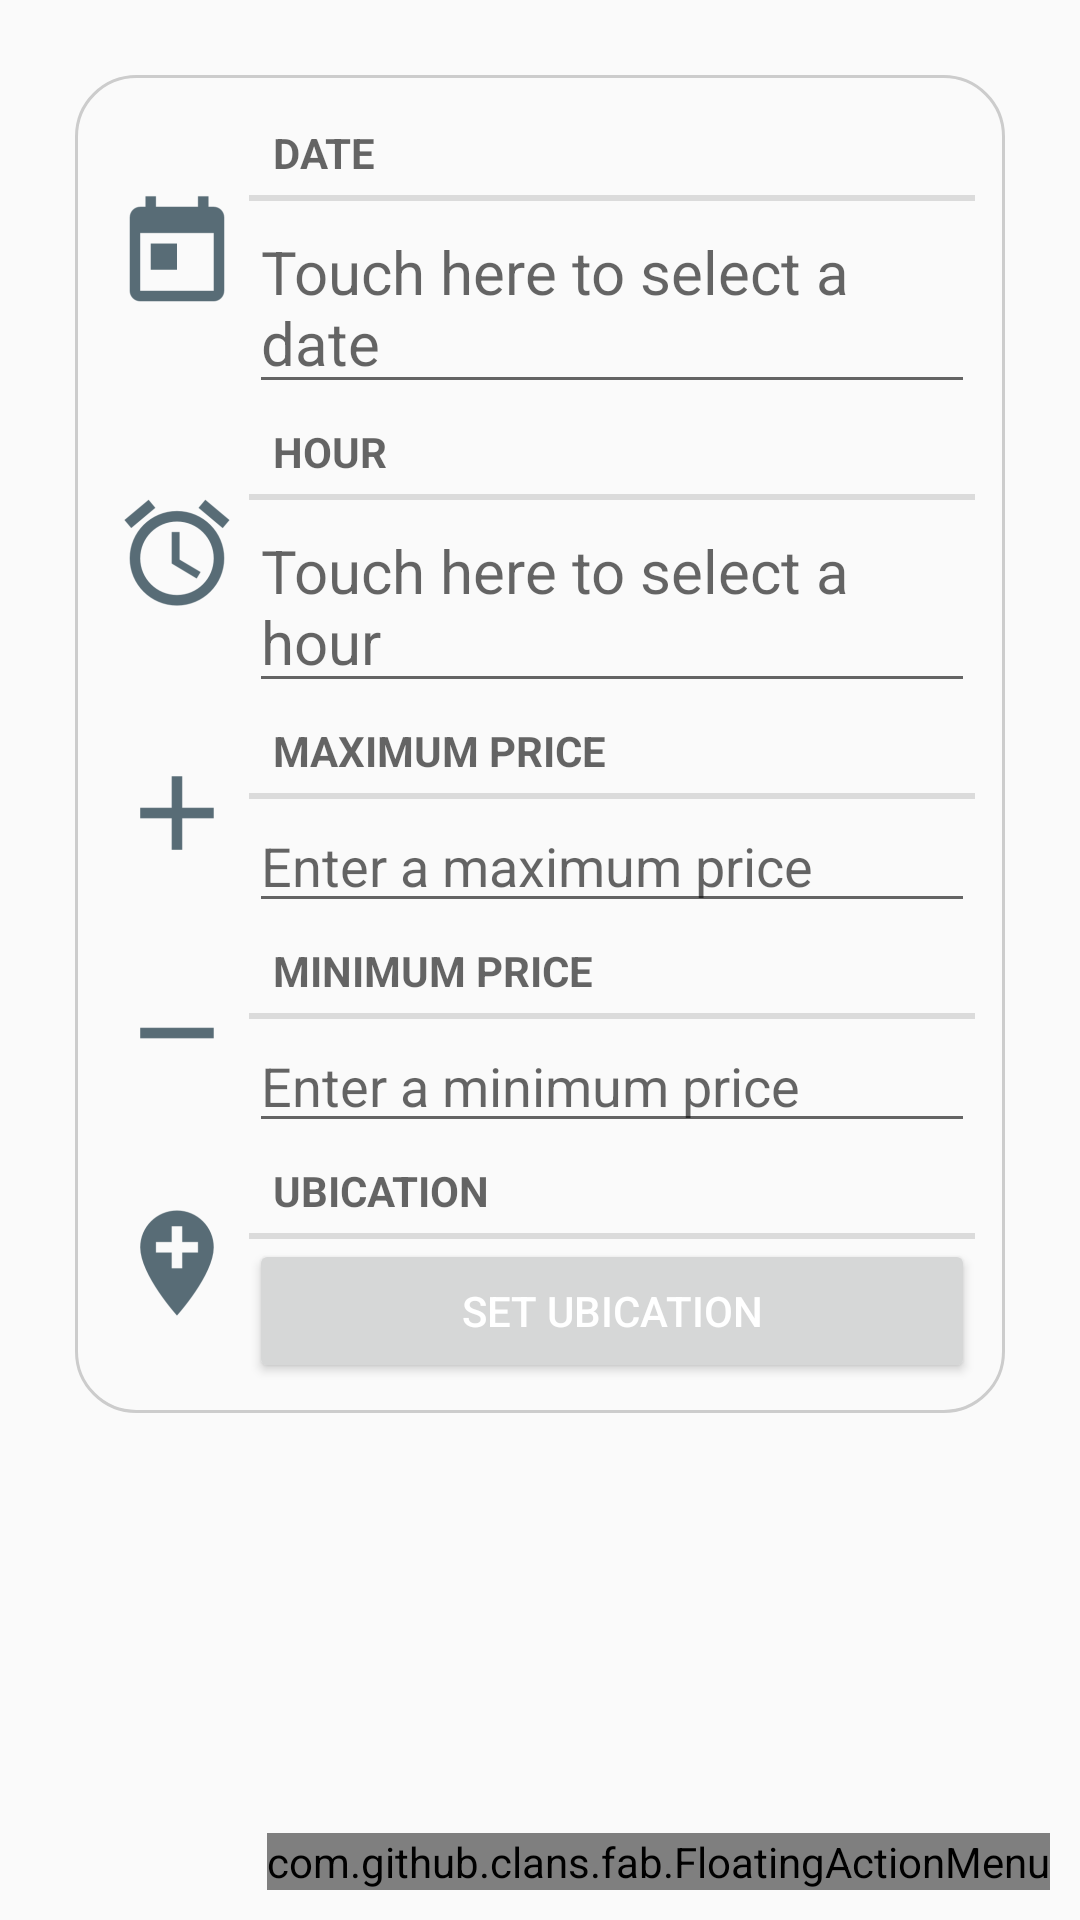

Named icons in this screenshot (1080*1920) and their centers, [x,y]:
birthday: [177,249]
location: [177,1263]
